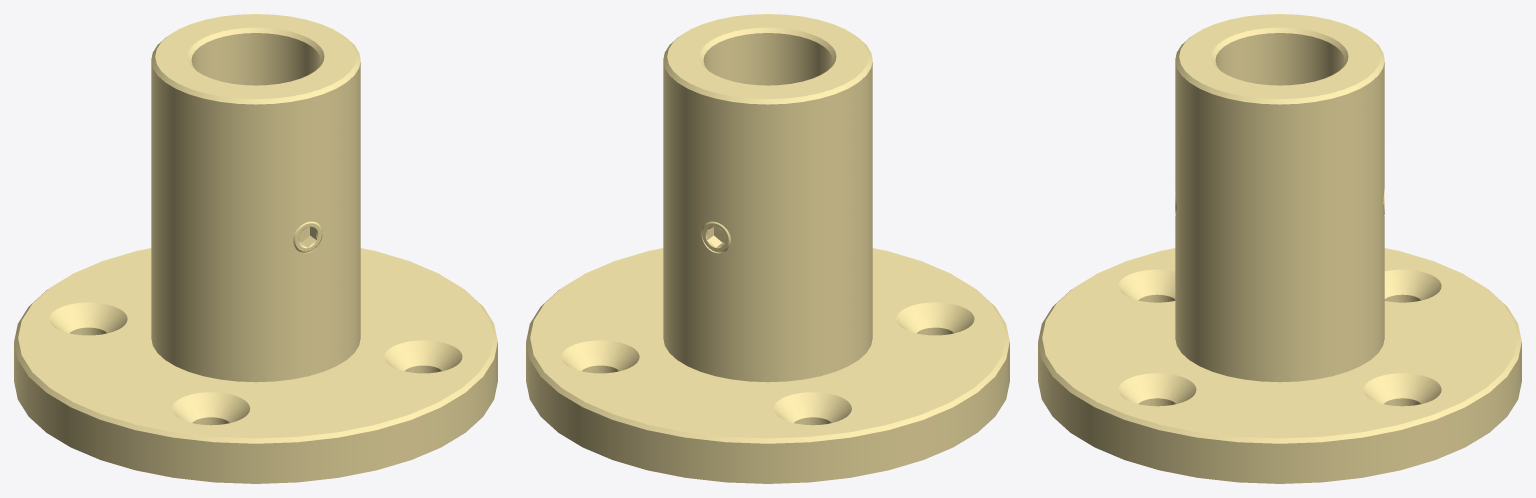
File: Type16E v1.glb
3 renders of one model, left to right at view 1: azimuth 30°, elevation 25°; view 2: azimuth 150°, elevation 25°; view 3: azimuth 270°, elevation 25°, orthographic.
Parts seen in each view (by area): view 1: Type16E v1; view 2: Type16E v1; view 3: Type16E v1.
Part boxes in pixels (<box>): Type16E v1: <box>14,14,497,483</box>; Type16E v1: <box>526,14,1009,483</box>; Type16E v1: <box>1038,14,1521,483</box>.
Size of the model in its own units: 0.06 by 0.0445 by 0.06.
1 material, 1 textured.
